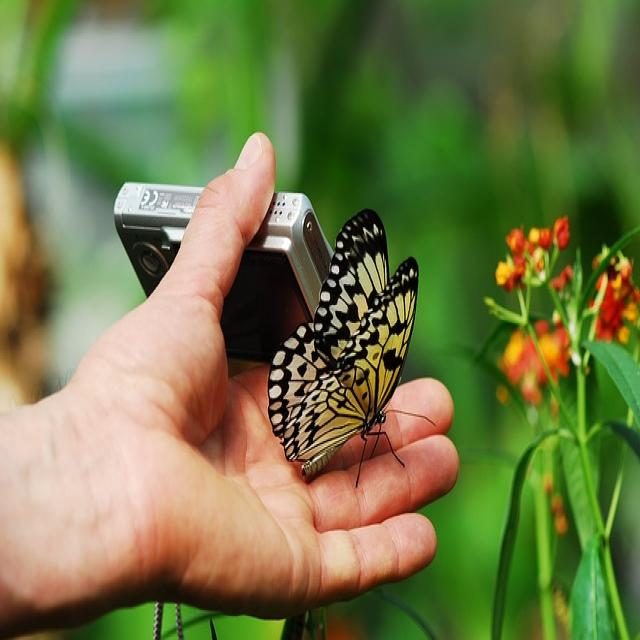butterfly: (268, 209, 420, 486)
